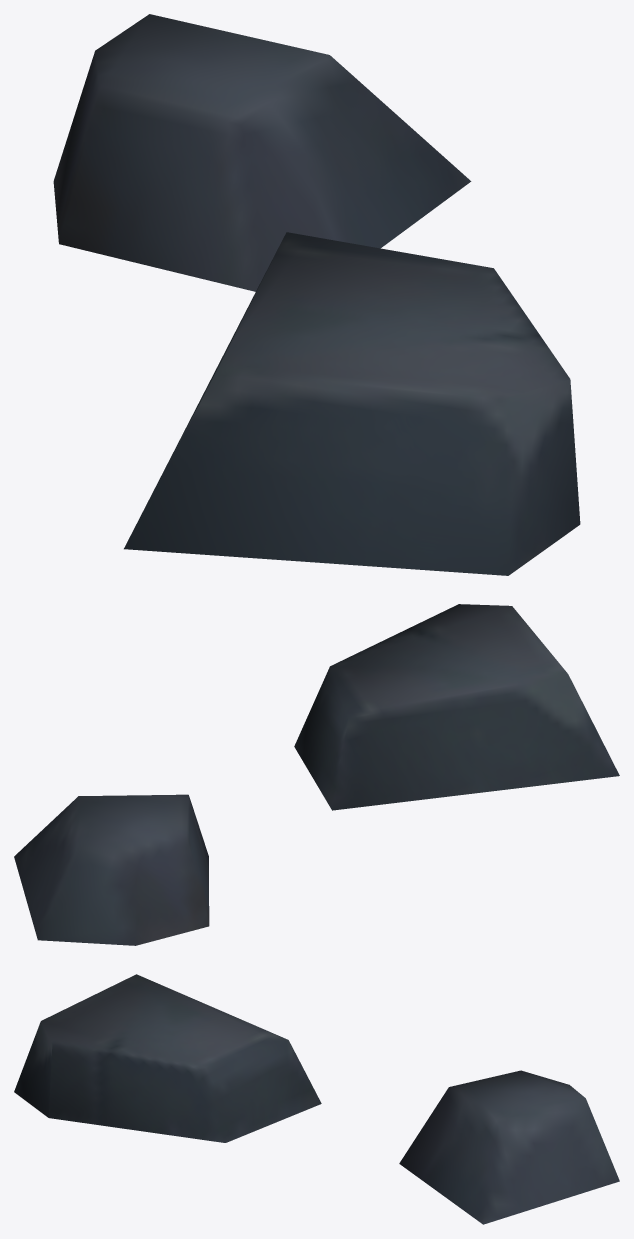
The model's file is Area_02_8.fbx.
3 renders of one model, top to bottom at view 1: azimuth 30°, elevation 25°; view 2: azimuth 150°, elevation 25°; view 3: azimuth 270°, elevation 25°, orthographic. The views are drawn at different scales.
Parts seen in each view (by area): view 1: Area_02_8; view 2: Area_02_8; view 3: Area_02_8.
Part boxes in pixels (bbox=[...]): Area_02_8: bbox=[53, 14, 580, 575]; Area_02_8: bbox=[14, 604, 619, 945]; Area_02_8: bbox=[14, 974, 619, 1224].
Size of the model in its own units: 126 by 35.89 by 191.
